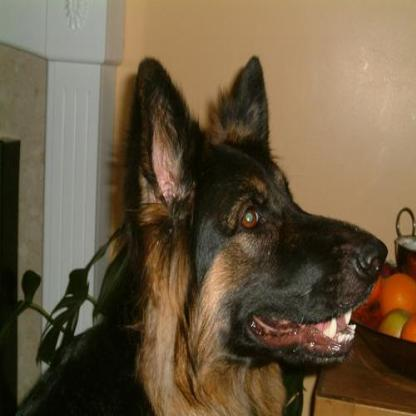dog: (0, 51, 385, 416)
